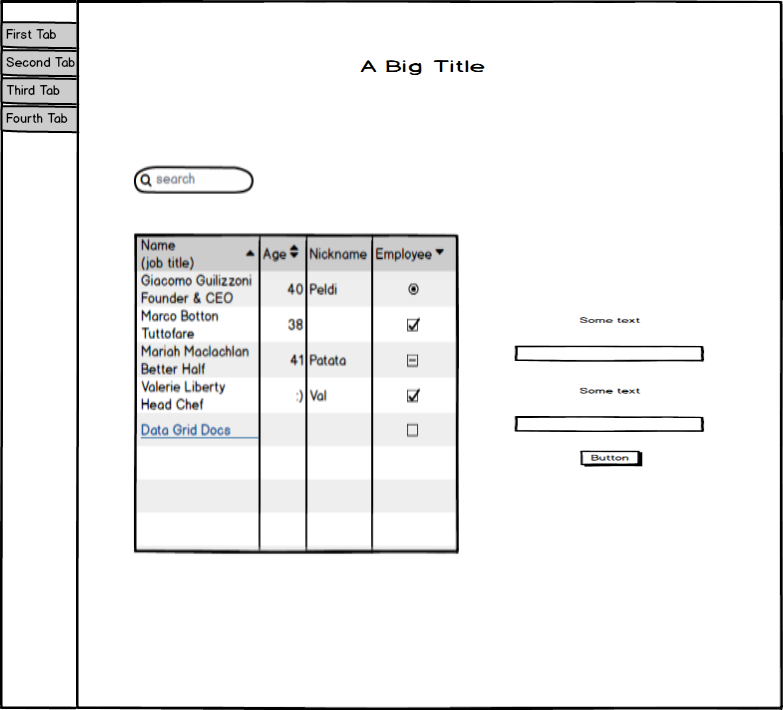button: (578, 445, 648, 470)
h1: (352, 50, 494, 81)
input: (510, 340, 709, 366), (511, 412, 707, 436)
label: (574, 310, 648, 328), (574, 381, 646, 399)
search: (130, 162, 259, 198)
sidebar: (2, 17, 82, 139)
table: (130, 227, 464, 559)
